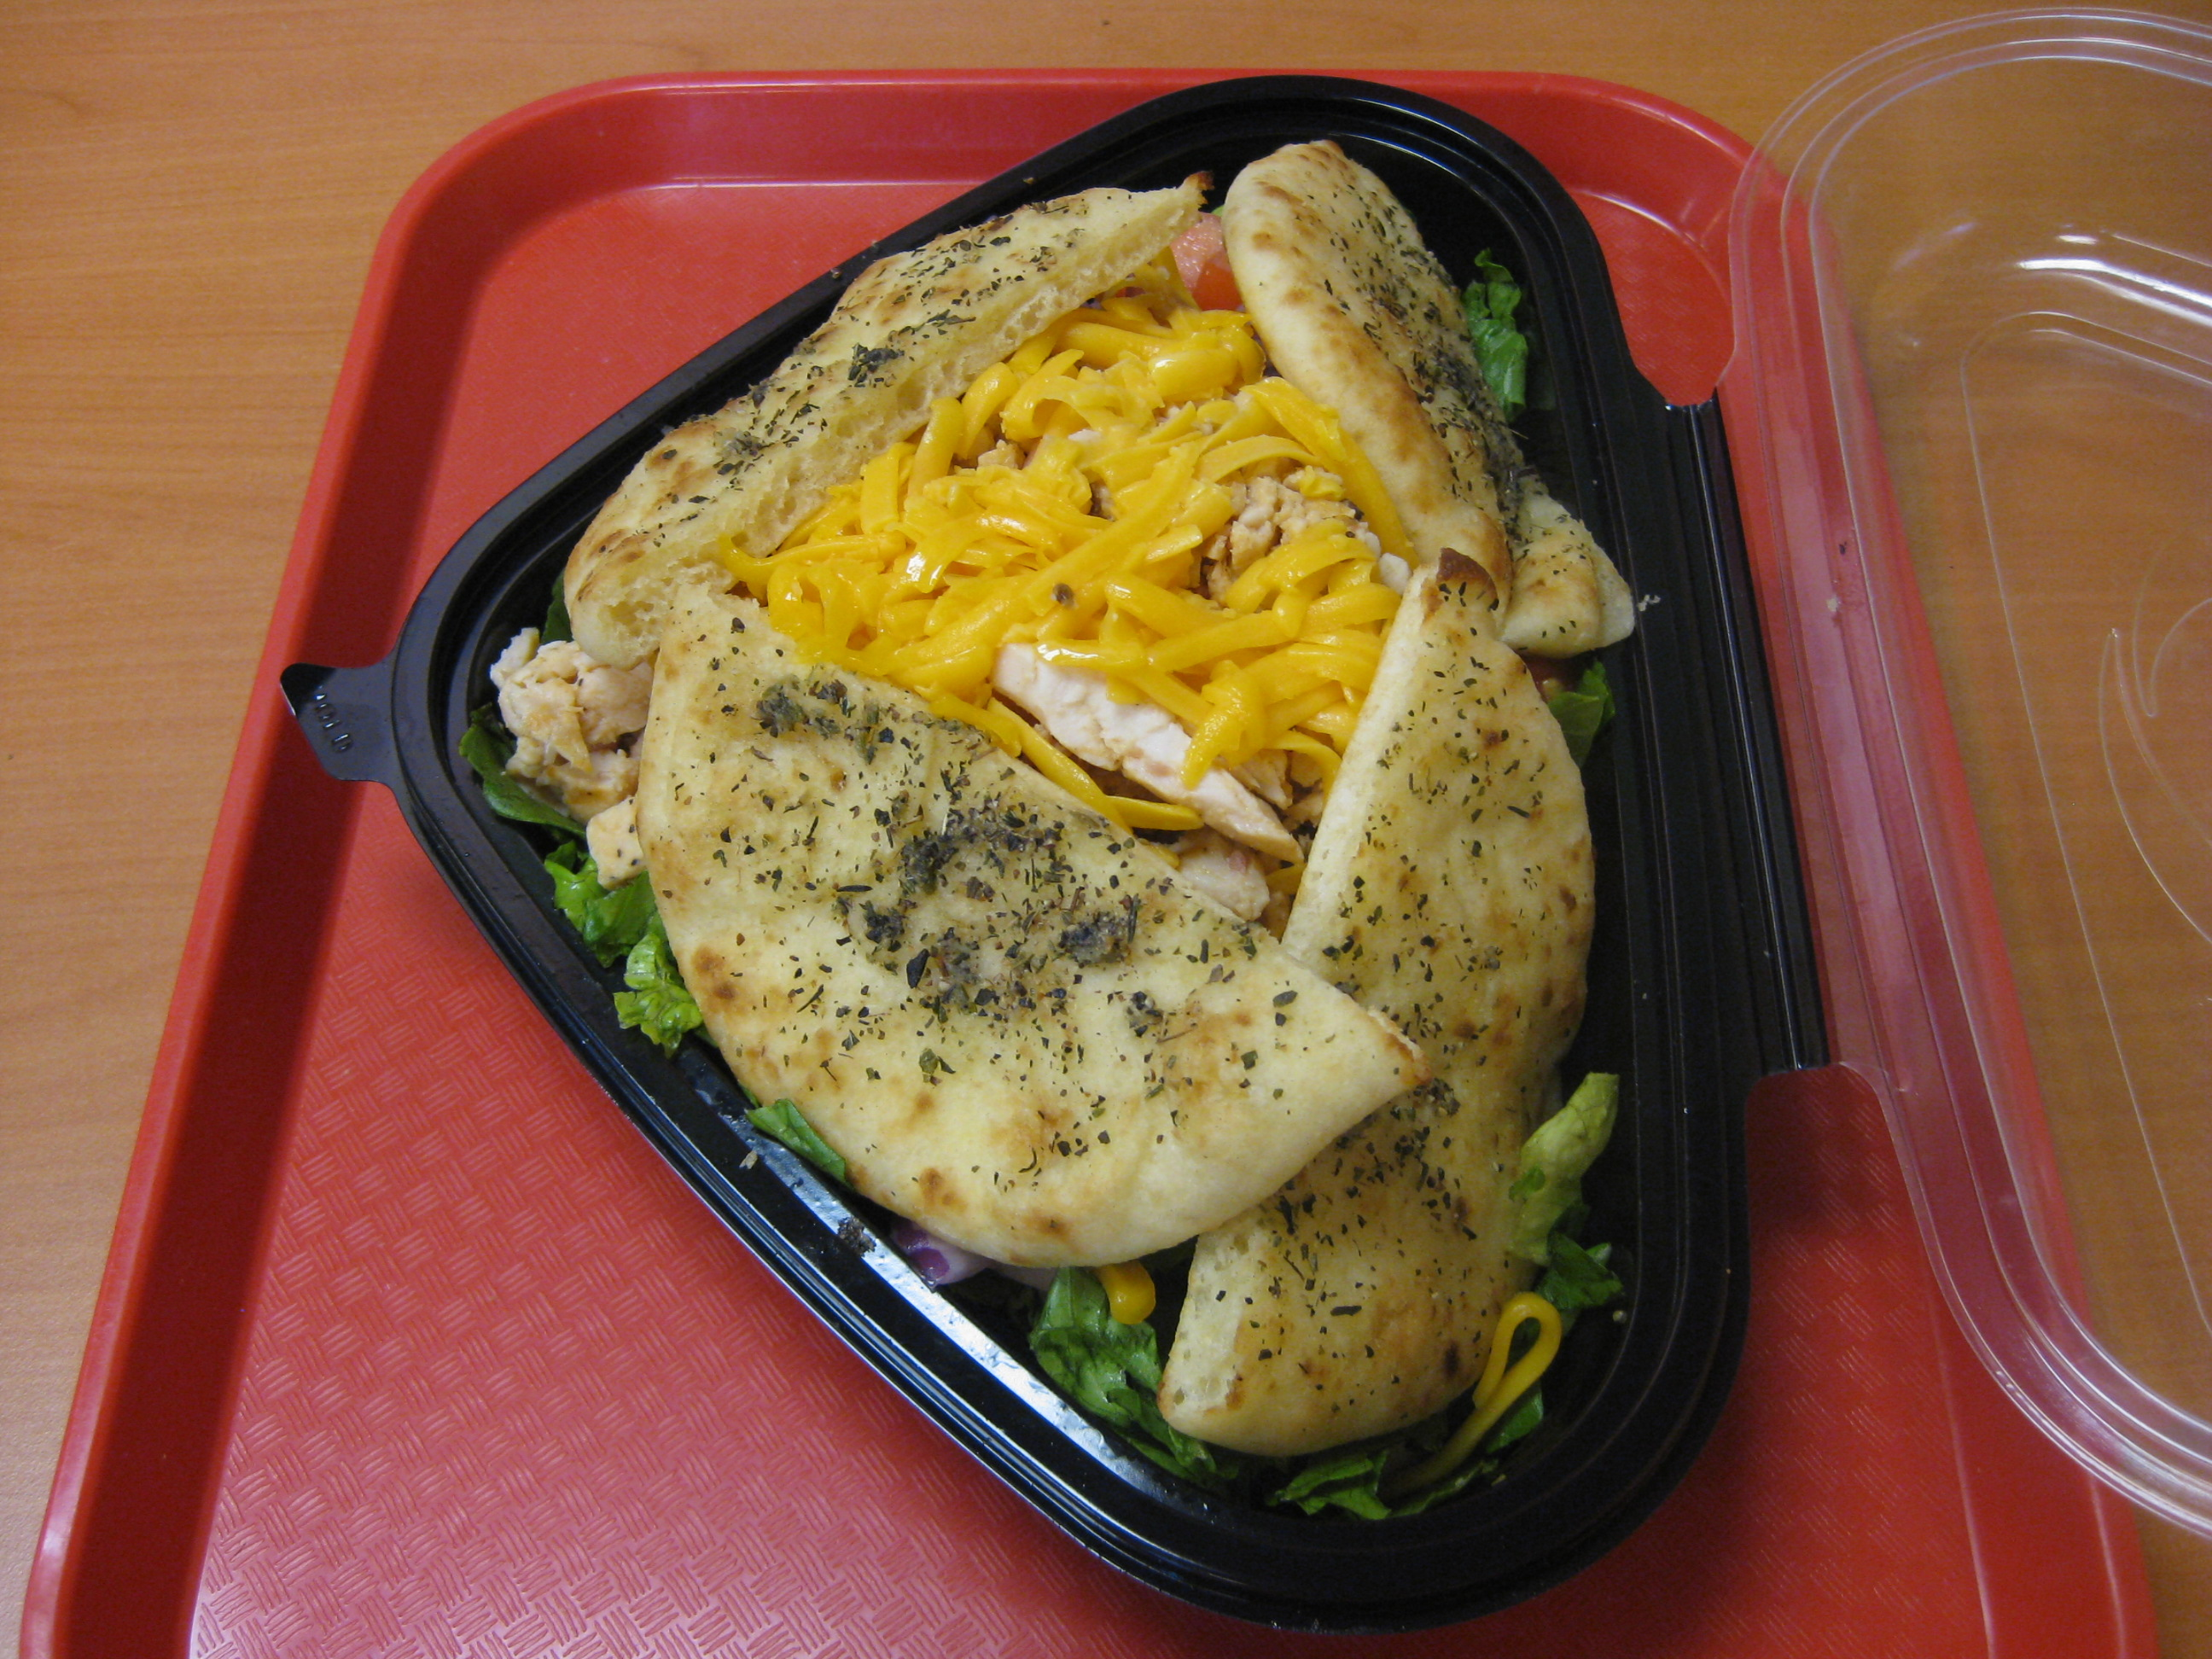salad: (527, 125, 1645, 1516)
